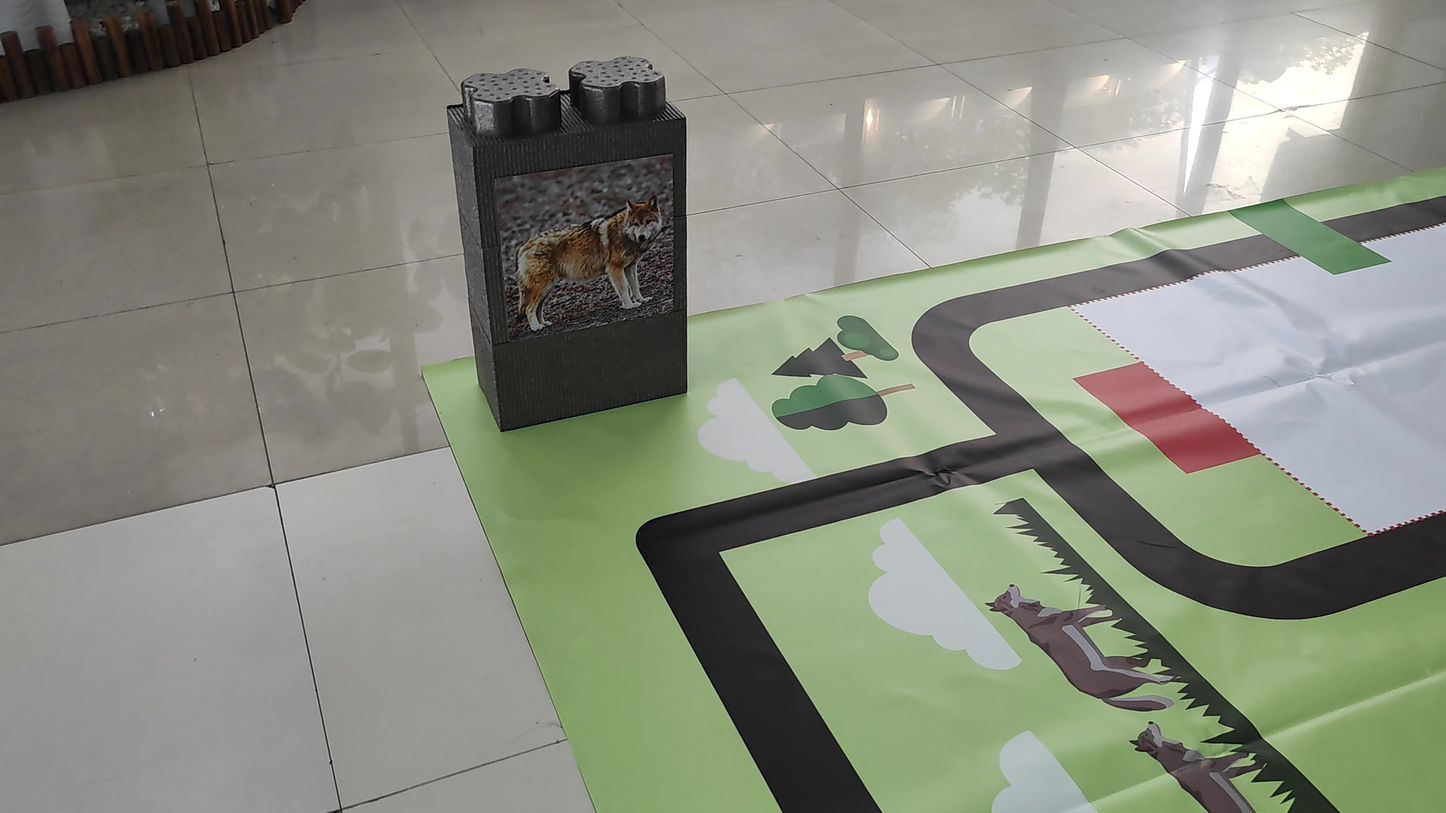wolf: (482, 195, 680, 327)
